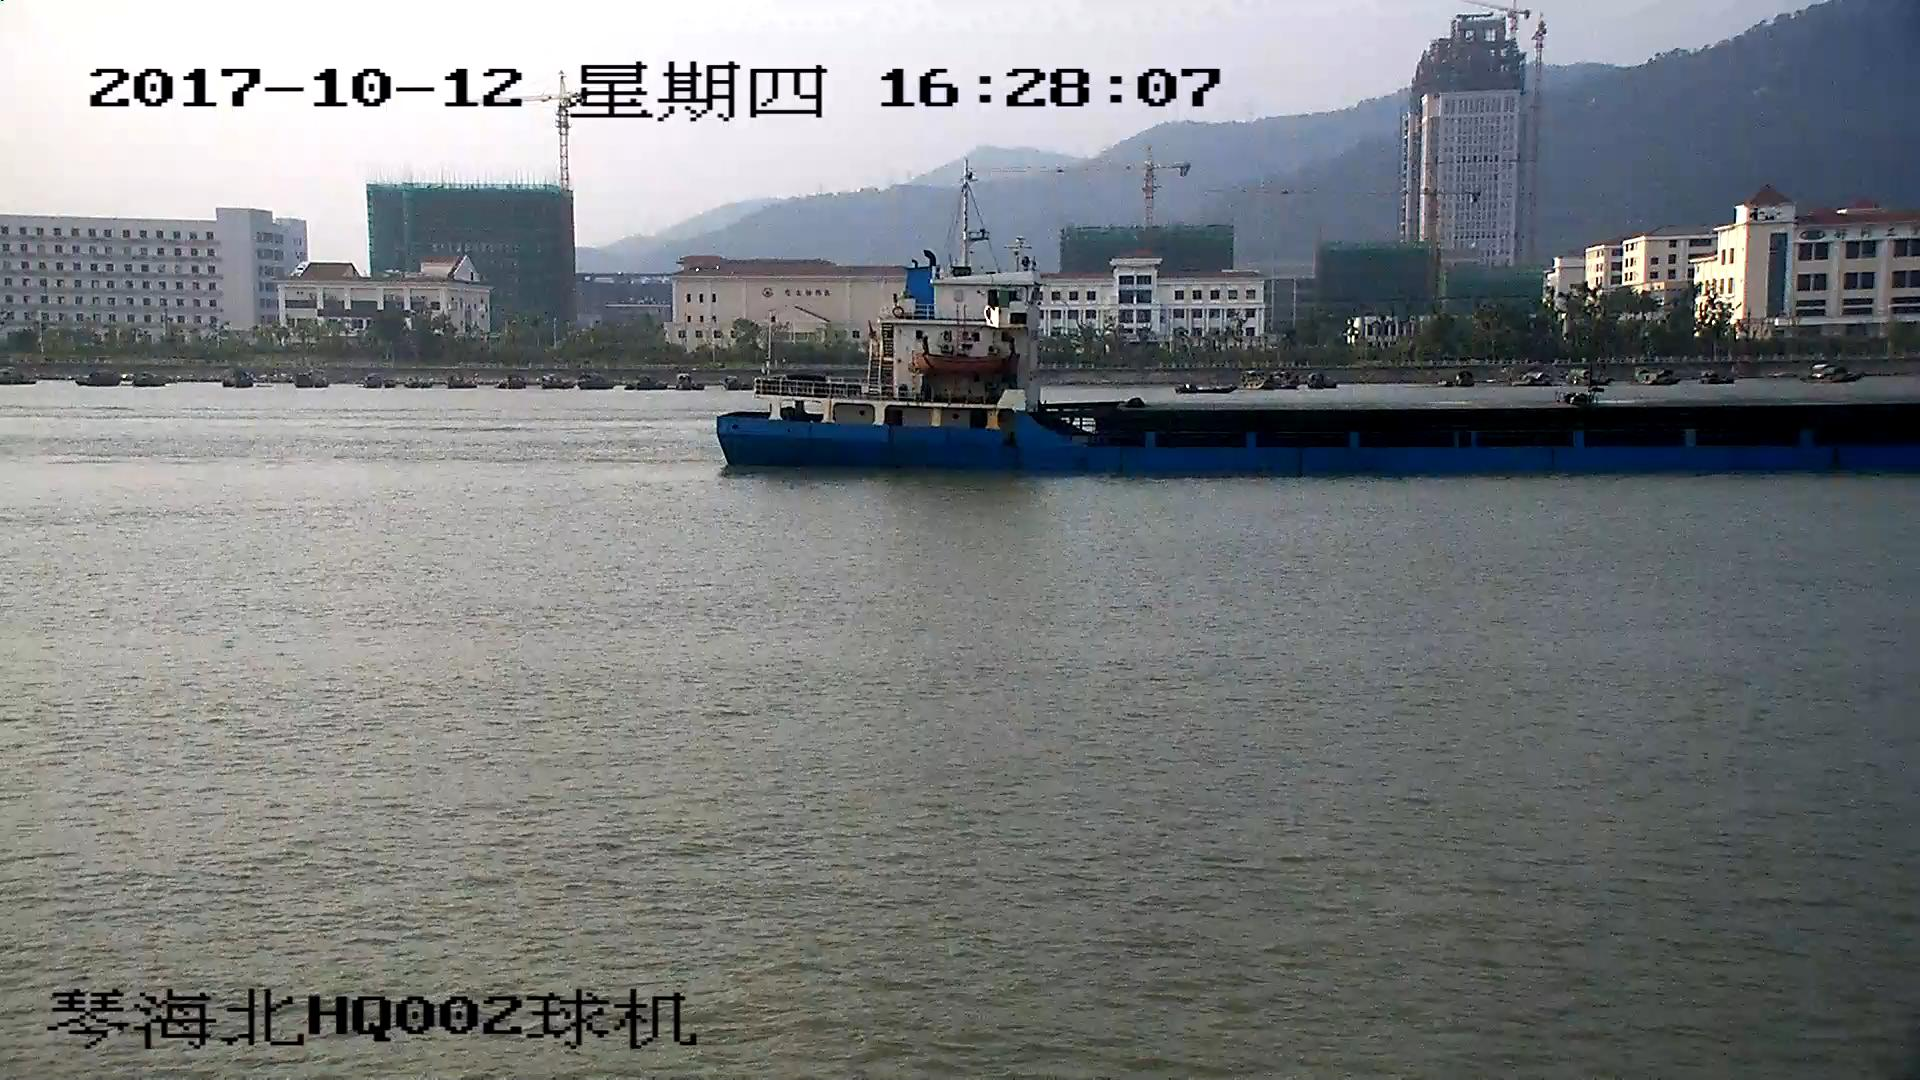general cargo ship: (723, 189, 1920, 479)
